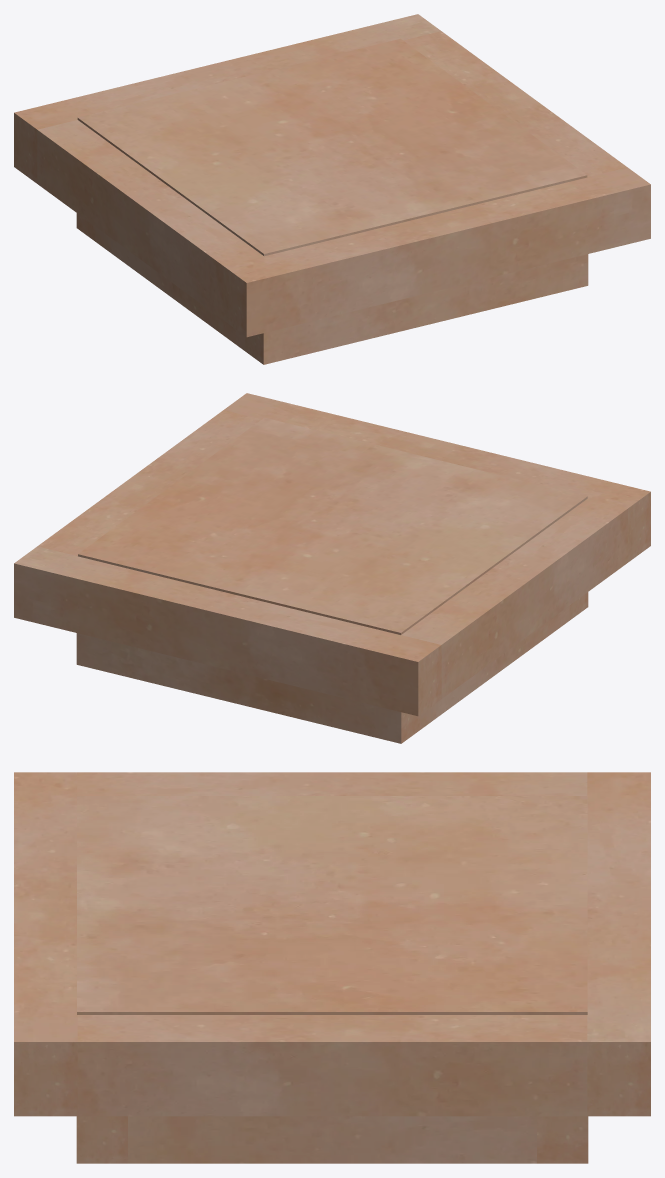
The picture shows the model from 3 angles, top to bottom: view 1: azimuth 30°, elevation 25°; view 2: azimuth 150°, elevation 25°; view 3: azimuth 270°, elevation 25°; orthographic projection. The views are drawn at different scales.
Parts seen in each view (by area): view 1: SM_BB_T4_Floor_Med_03_LOD0; view 2: SM_BB_T4_Floor_Med_03_LOD0; view 3: SM_BB_T4_Floor_Med_03_LOD0.
Boxes of the visible parts, box(x1,y1,x2,y2) form: SM_BB_T4_Floor_Med_03_LOD0: box(14, 14, 650, 364); SM_BB_T4_Floor_Med_03_LOD0: box(14, 393, 650, 743); SM_BB_T4_Floor_Med_03_LOD0: box(14, 772, 650, 1163).
Size of the model in its own units: 1.88 by 0.4907 by 1.87.
Materials: 1 (1 with a texture image).
